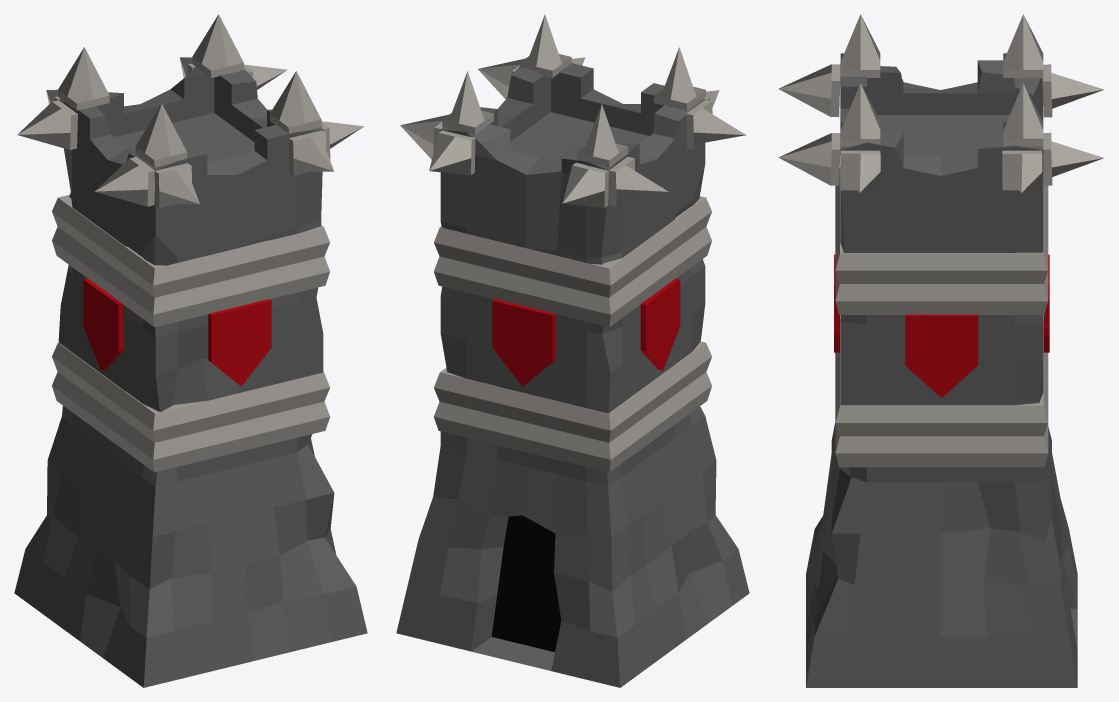
Rendered from tower lvl5.fbx.
3 renders of one model, left to right at view 1: azimuth 30°, elevation 25°; view 2: azimuth 150°, elevation 25°; view 3: azimuth 270°, elevation 25°, orthographic. The views are drawn at different scales.
Parts seen in each view (by area): view 1: Cube.005; view 2: Cube.005; view 3: Cube.005.
Boxes of the visible parts, box(x1,y1,x2,y2) form: Cube.005: box(14, 14, 367, 687); Cube.005: box(396, 14, 749, 687); Cube.005: box(778, 14, 1104, 687).
Size of the model in its own units: 6.71 by 13.31 by 6.7.
